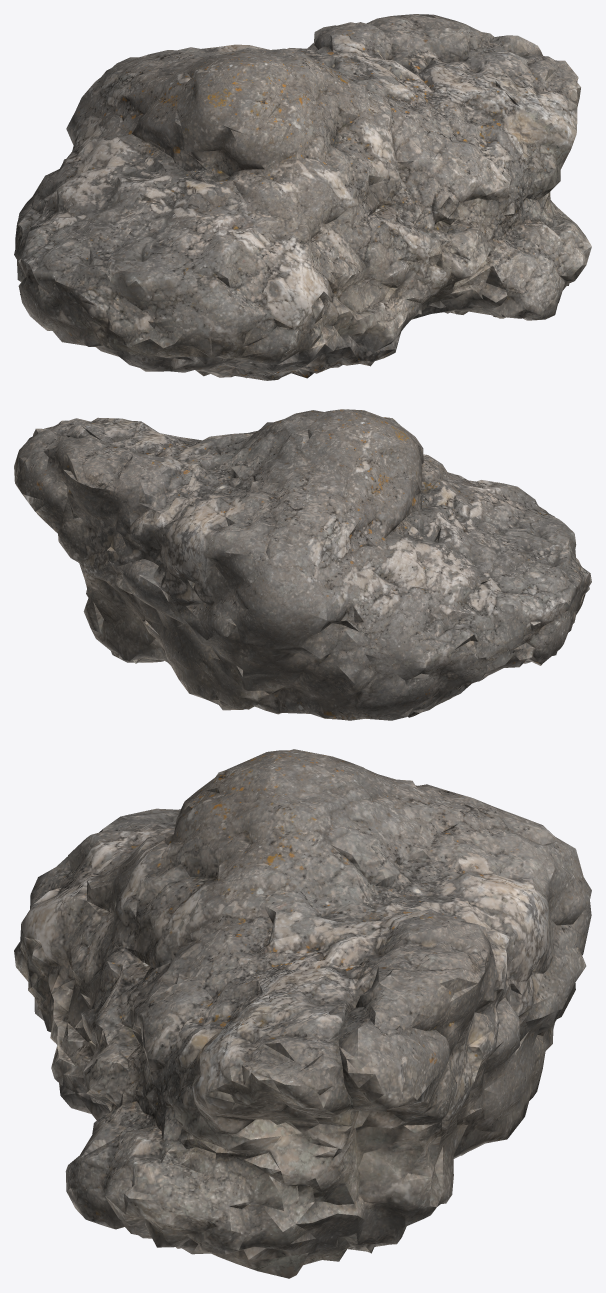
Rendered from SM_wfcoedwbw_tier_2.gltf.
The picture shows the model from 3 angles, top to bottom: view 1: azimuth 30°, elevation 25°; view 2: azimuth 150°, elevation 25°; view 3: azimuth 270°, elevation 25°; orthographic projection. The views are drawn at different scales.
Parts seen in each view (by area): view 1: SM_wfcoedwbw; view 2: SM_wfcoedwbw; view 3: SM_wfcoedwbw.
Part boxes in pixels (x1,y1,x2,y2): SM_wfcoedwbw: [14, 14, 591, 380]; SM_wfcoedwbw: [14, 409, 591, 720]; SM_wfcoedwbw: [14, 749, 591, 1278].
Bounding box in the file's own units: 1.35 × 0.6974 × 0.9528.
Materials: 1 (1 with a texture image).
